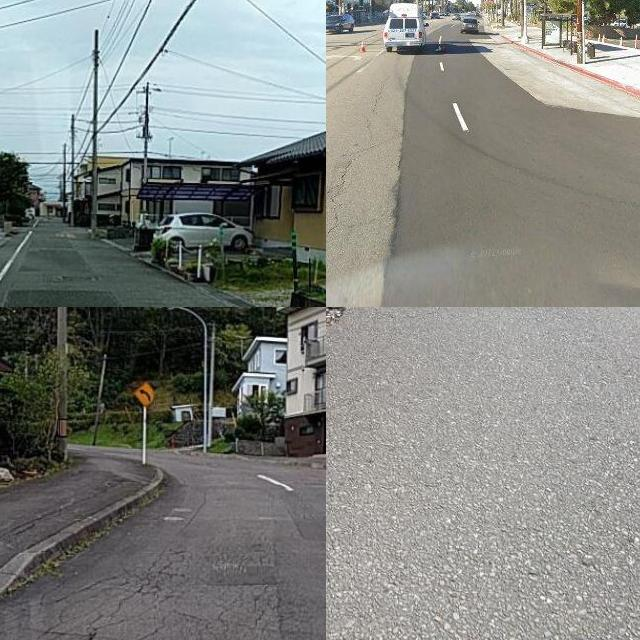Sambungan: (380, 44, 640, 307)
